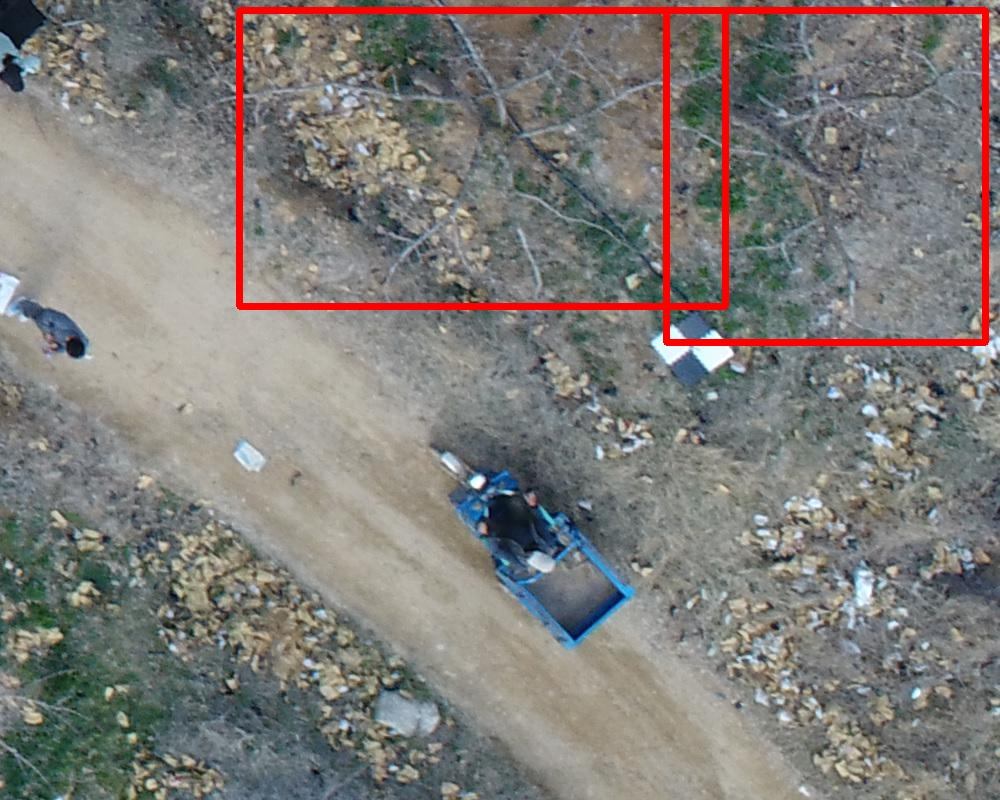apple: (239, 10, 725, 306), (666, 10, 985, 342)
